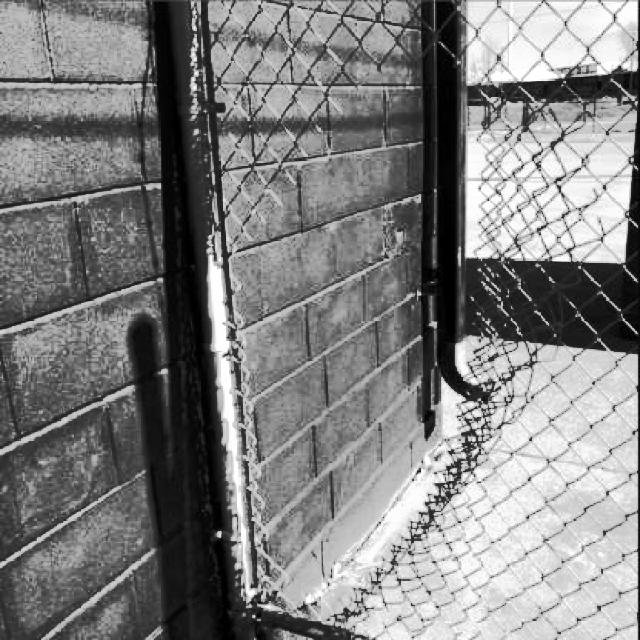anomaly-fence: (207, 47, 538, 640)
